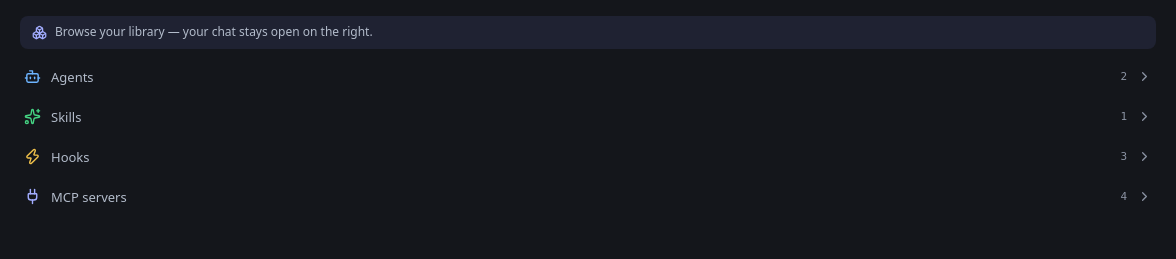
Test: LibraryNav › drills into Agents and renders the reused AgentsZone list
The width and height of the screenshot is (1176, 259).
Step 1. Click the text "Agents" → (72, 76), box [51,68,94,86]
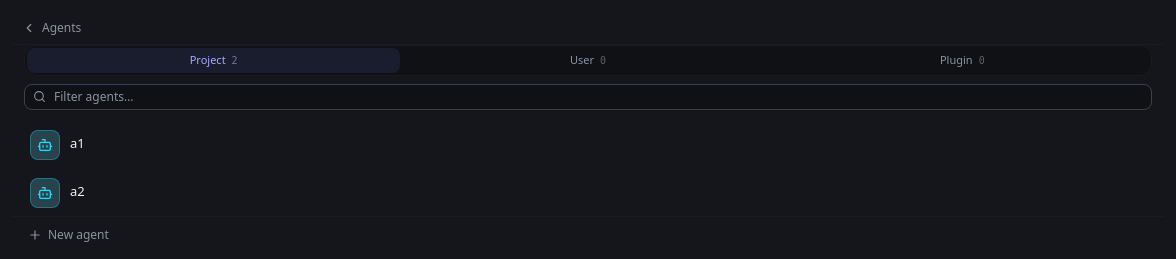
Check: the text "a1" is shown, box [70,134,85,154]
Check: the element showing "Project 2 User 0 Plugin 0" is shown, box [24,45,1152,76]
